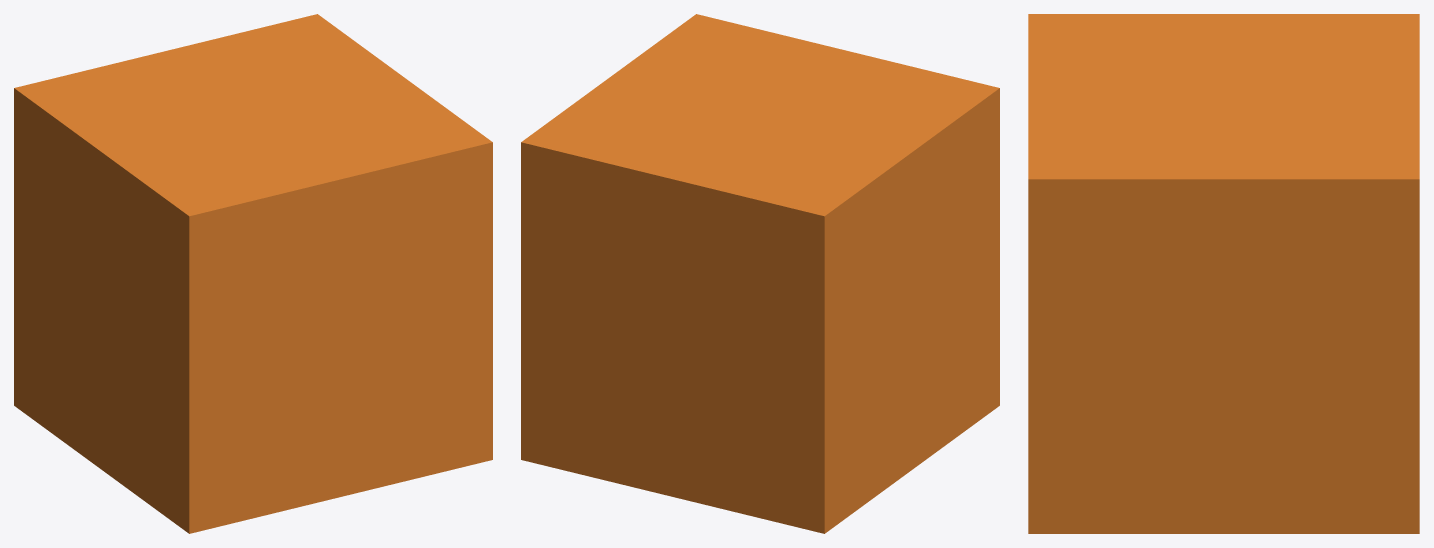
The model's file is Package.gltf.
The picture shows the model from 3 angles, left to right: view 1: azimuth 30°, elevation 25°; view 2: azimuth 150°, elevation 25°; view 3: azimuth 270°, elevation 25°; orthographic projection. The views are drawn at different scales.
Parts seen in each view (by area): view 1: Package; view 2: Package; view 3: Package.
Part boxes in pixels (x1,y1,x2,y2): Package: [14, 14, 492, 533]; Package: [521, 14, 999, 533]; Package: [1028, 14, 1419, 533].
Bounding box in the file's own units: 1 × 1 × 1.
1 material, 1 textured.
